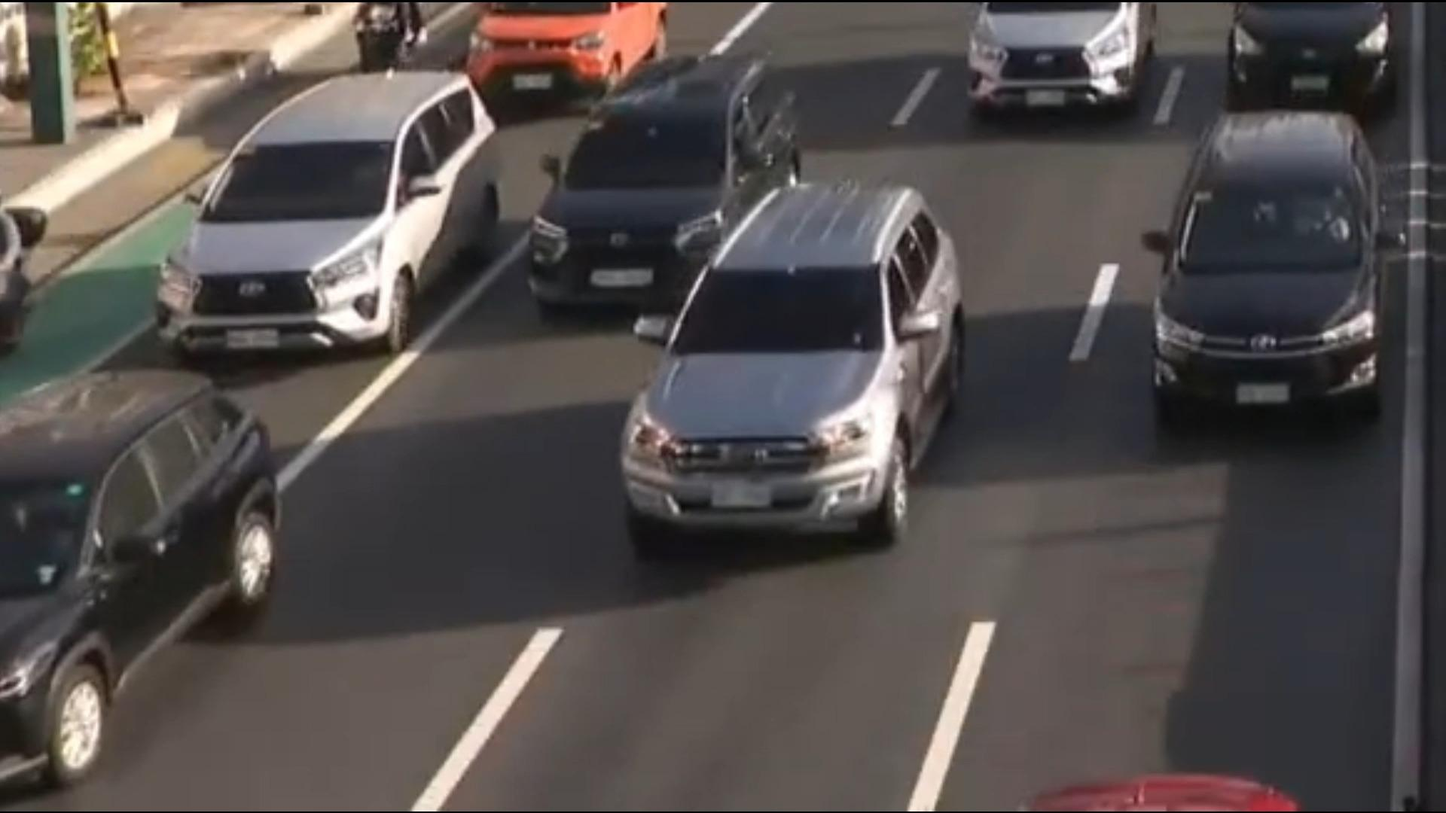SUV: (589, 143, 993, 609), (2, 335, 307, 813), (134, 32, 520, 367), (1126, 96, 1405, 457), (533, 50, 823, 346)
